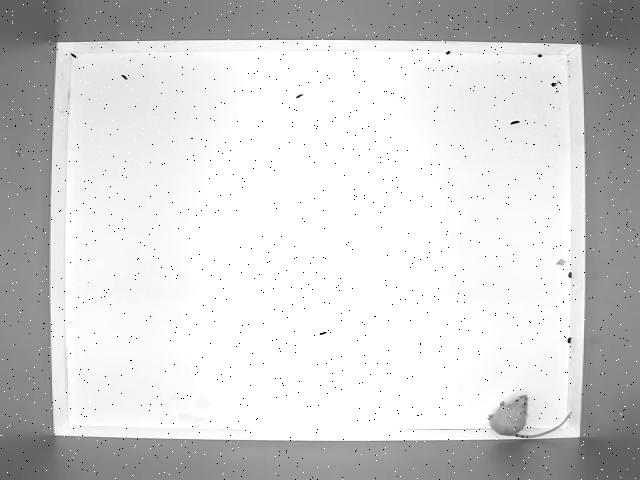Tikus: (487, 396, 572, 438)
